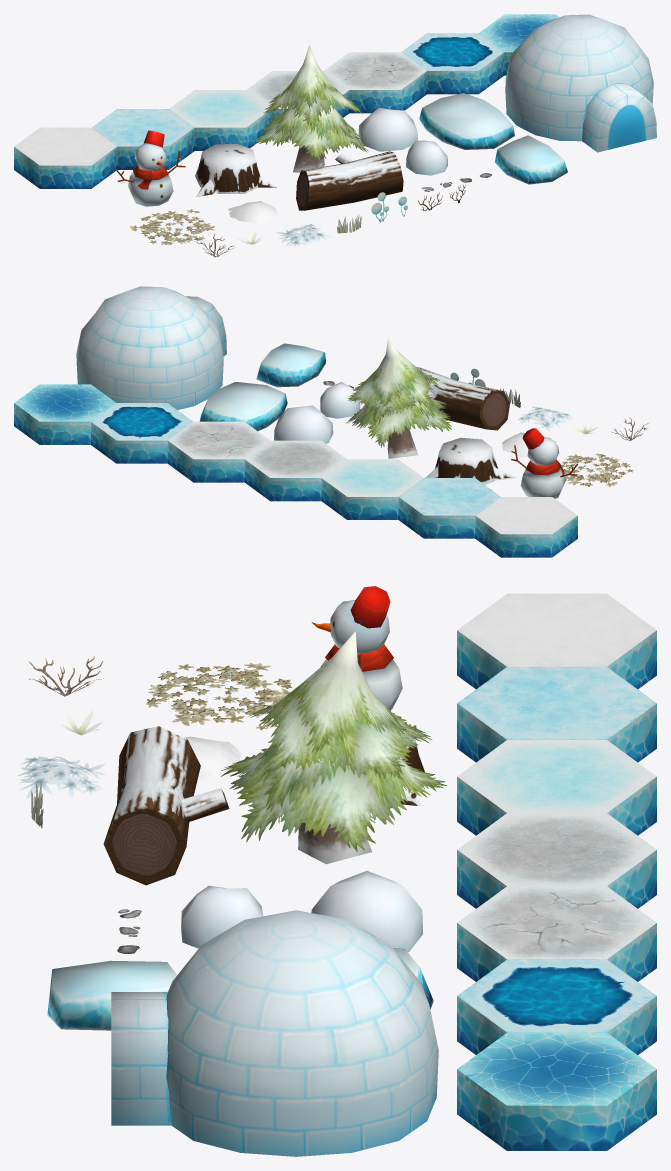
The model's file is Hexagon2_Object_All.FBX.
3 views of the same model, one above another, from view 1: azimuth 30°, elevation 25°; view 2: azimuth 150°, elevation 25°; view 3: azimuth 270°, elevation 25° (orthographic). The views are drawn at different scales.
Parts seen in each view (by area): view 1: Igloo_001, SnowTree_001, Hexagon_SnowLand_01_001, Hexagon_IceWater_01_001, Hexagon_IceLand_03_001, SnowTruncatedTree_02_001, Hexagon_IceLand_02_001, Ice_01_001, Hexagon_IceLand_01_001, SnowTruncatedTree_01_001, Snowman_001, Ice_02_001 (+7 smaller); view 2: Igloo_001, SnowTree_001, Hexagon_SnowLand_01_001, Hexagon_IceLand_04_001, Hexagon_IceLand_03_001, Hexagon_IceLand_01_001, Hexagon_IceLand_02_001, Hexagon_IceWater_01_001, Hexagon_Ice_01_001, SnowTruncatedTree_02_001, Ice_01_001, SnowTruncatedTree_01_001 (+7 smaller); view 3: Igloo_001, SnowTree_001, Hexagon_Ice_01_001, Hexagon_SnowLand_01_001, Hexagon_IceLand_03_001, Hexagon_IceLand_04_001, Hexagon_IceWater_01_001, Hexagon_IceLand_01_001, Hexagon_IceLand_02_001, SnowTruncatedTree_02_001, Ice_02_001, w (+5 smaller).
Boxes of the visible parts, x1,y1,x2,y2 form: Igloo_001: [505, 14, 656, 152]; SnowTree_001: [254, 45, 368, 172]; Hexagon_SnowLand_01_001: [14, 127, 117, 188]; Hexagon_IceWater_01_001: [401, 33, 504, 94]; Hexagon_IceLand_03_001: [324, 52, 426, 113]; SnowTruncatedTree_02_001: [296, 151, 403, 210]; Hexagon_IceLand_02_001: [169, 90, 271, 150]; Ice_01_001: [419, 93, 514, 149]; Hexagon_IceLand_01_001: [91, 109, 194, 169]; SnowTruncatedTree_01_001: [195, 144, 276, 196]; Snowman_001: [115, 130, 185, 206]; Ice_02_001: [494, 135, 567, 184]; Igloo_001: [76, 286, 226, 409]; SnowTree_001: [346, 339, 451, 458]; Hexagon_SnowLand_01_001: [475, 497, 577, 557]; Hexagon_IceLand_04_001: [244, 440, 346, 501]; Hexagon_IceLand_03_001: [167, 421, 269, 482]; Hexagon_IceLand_01_001: [398, 478, 500, 538]; Hexagon_IceLand_02_001: [321, 459, 423, 519]; Hexagon_IceWater_01_001: [91, 403, 192, 463]; Hexagon_Ice_01_001: [14, 384, 115, 444]; SnowTruncatedTree_02_001: [417, 367, 509, 430]; Ice_01_001: [199, 382, 287, 431]; SnowTruncatedTree_01_001: [425, 437, 516, 484]; Igloo_001: [111, 910, 438, 1156]; SnowTree_001: [221, 631, 446, 864]; Hexagon_Ice_01_001: [457, 1032, 656, 1150]; Hexagon_SnowLand_01_001: [457, 593, 656, 689]; Hexagon_IceLand_03_001: [457, 886, 656, 981]; Hexagon_IceLand_04_001: [457, 813, 656, 908]; Hexagon_IceWater_01_001: [457, 959, 656, 1054]; Hexagon_IceLand_01_001: [457, 667, 656, 762]; Hexagon_IceLand_02_001: [457, 740, 656, 835]; SnowTruncatedTree_02_001: [103, 726, 229, 885]; Ice_02_001: [47, 960, 176, 1030]; w: [311, 871, 422, 952].
Bounding box in the file's own units: 49.13 × 10.37 × 25.73.
